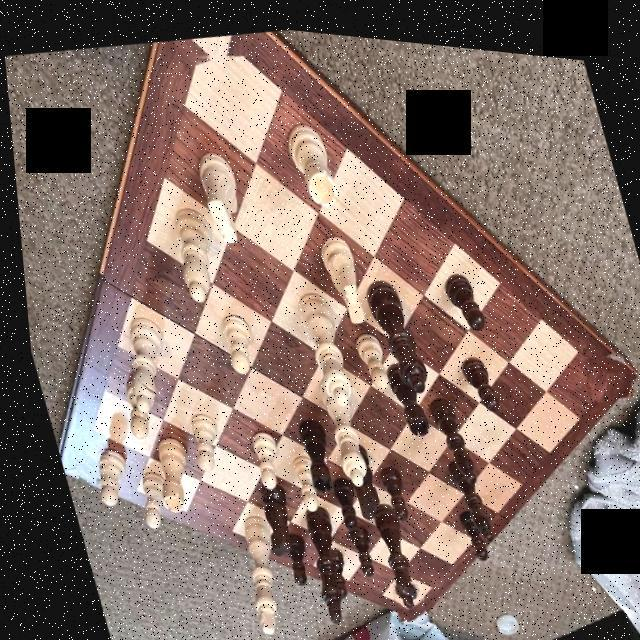chess-table-corners: (173, 23, 250, 67), (58, 424, 110, 489), (572, 337, 630, 394), (379, 570, 420, 620)
